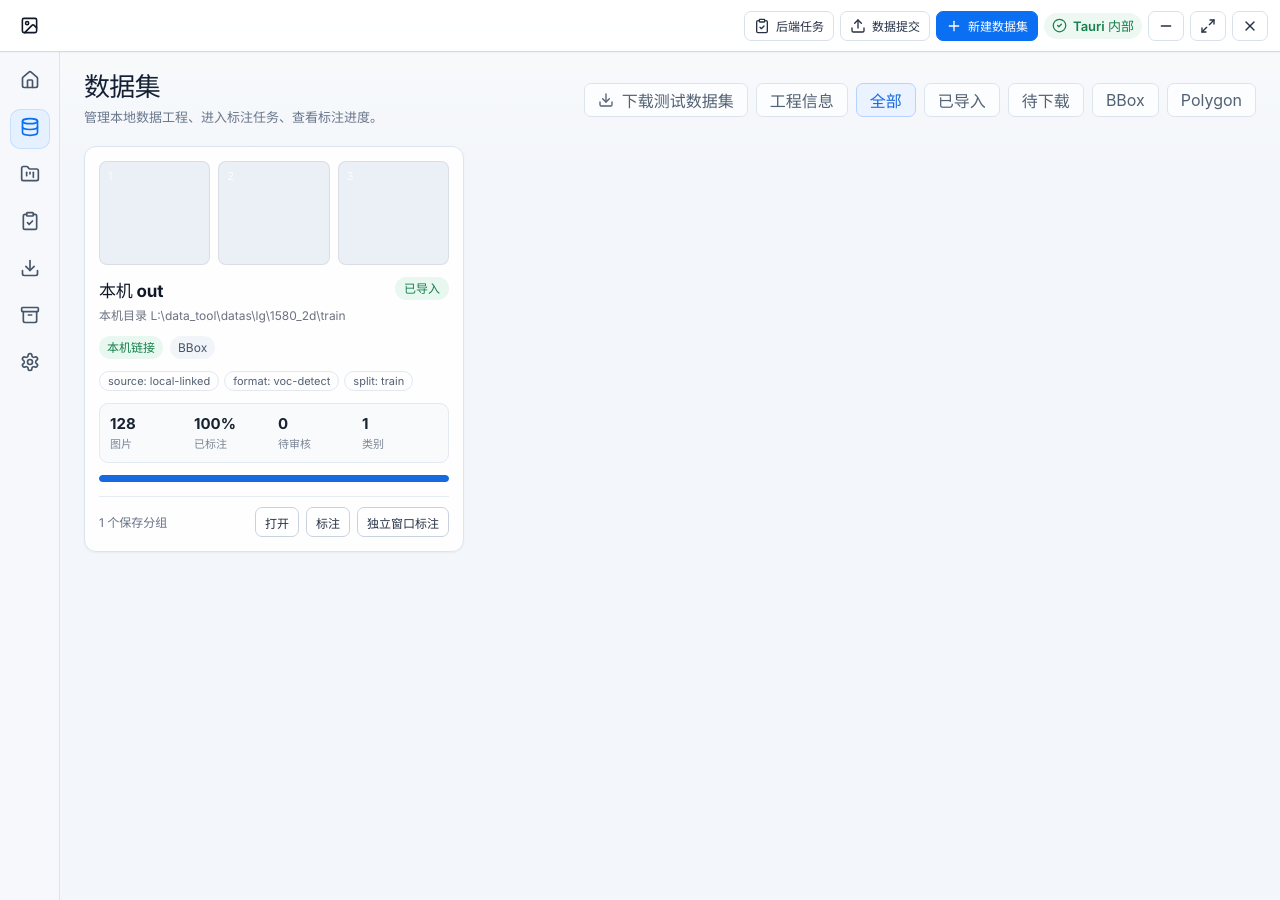
Test: desktop shell › 手动下载及失败重试期间保留已有本地项目
Expected: the heading "本机 out" is shown, [99,282,163,302]
Step 1. Click the button "下载测试数据集" → point(666, 100), box [584,83,748,117]
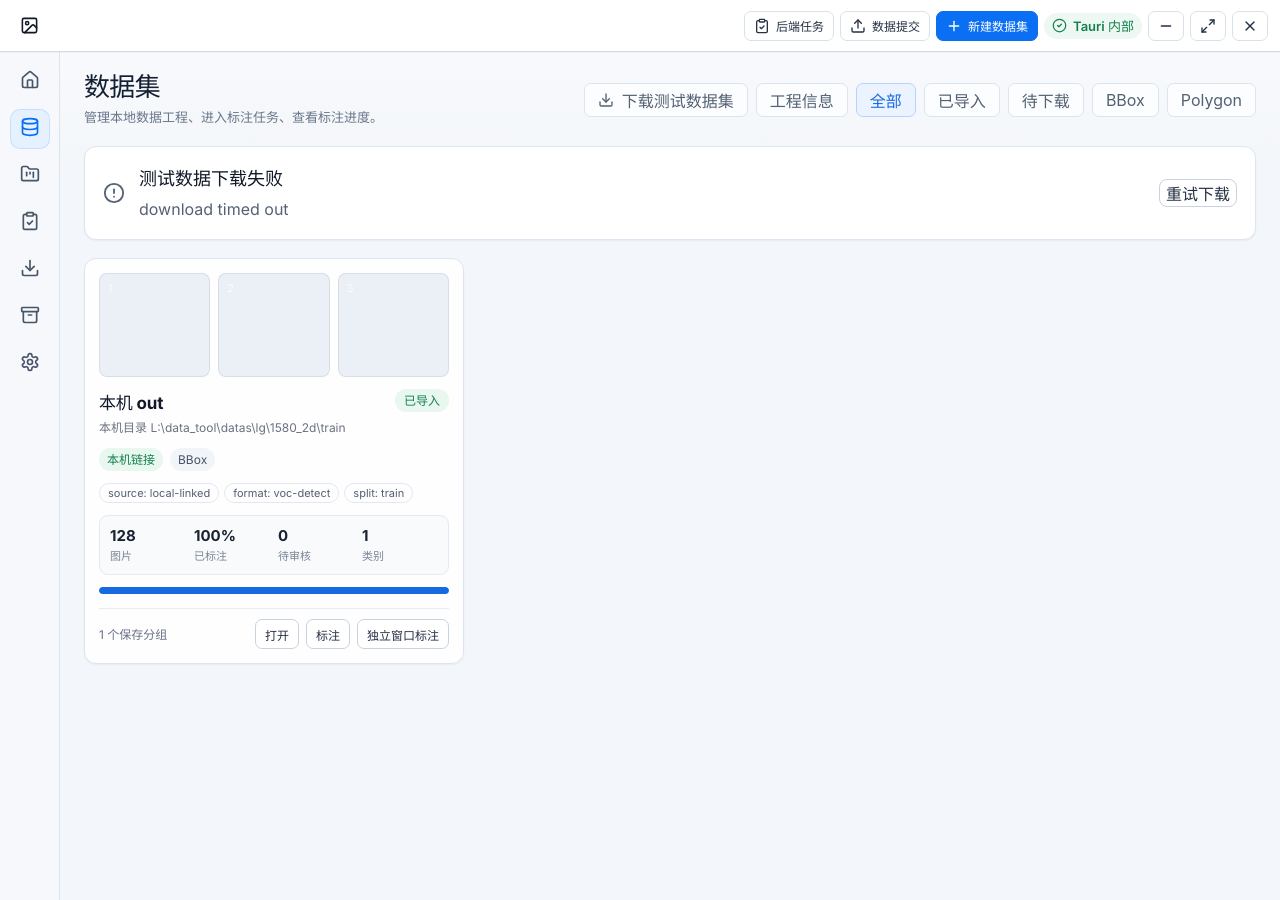
Expected: the heading "本机 out" is shown, [99,394,163,414]
Result: the heading "测试数据下载失败" is shown at [139,169,283,190]
Step 2. Click the button "重试下载" → point(1198, 193), box [1159,179,1237,207]
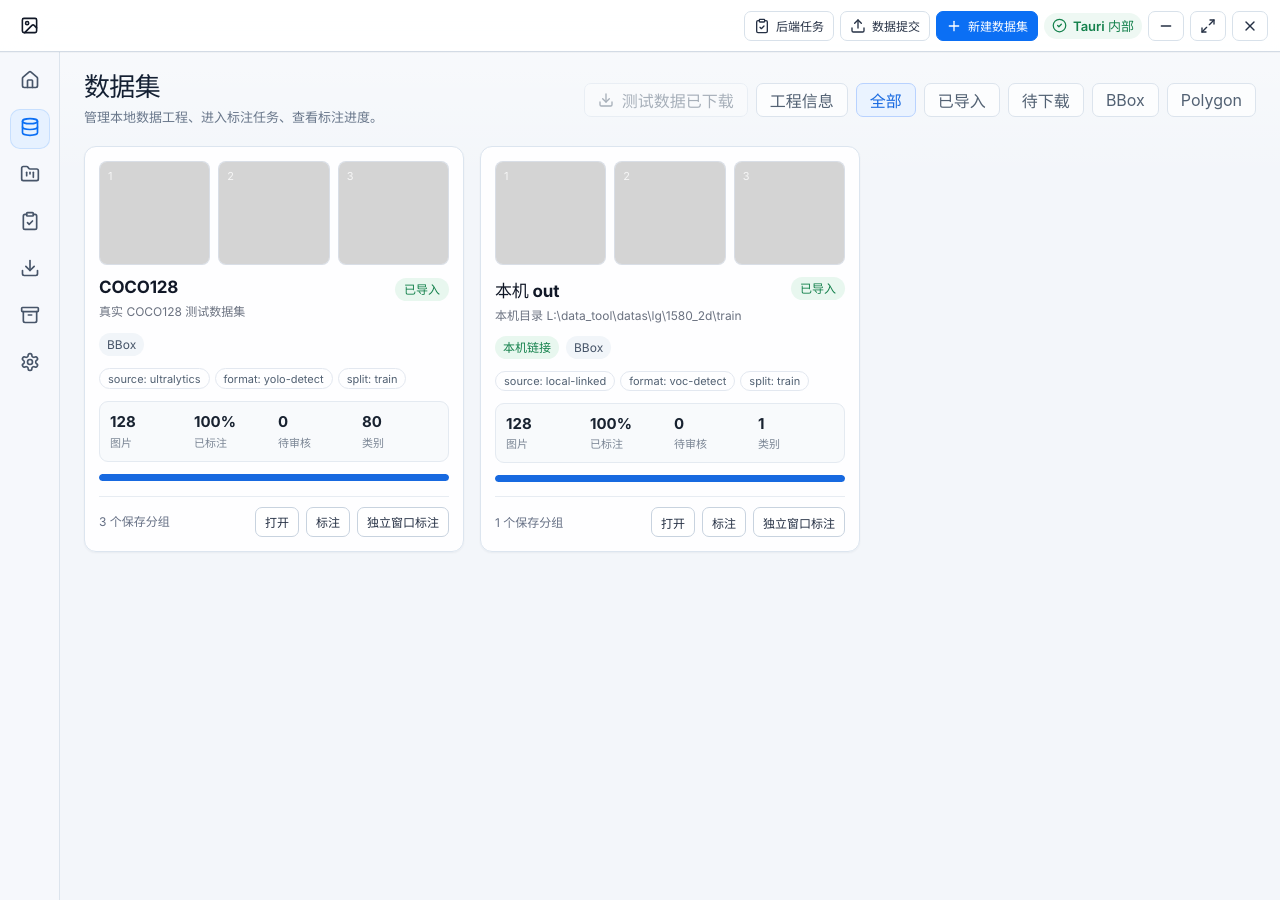
Expected: the heading "本机 out" is shown, [495,282,559,302]
Result: the heading "COCO128" is shown at [99,278,178,298]
